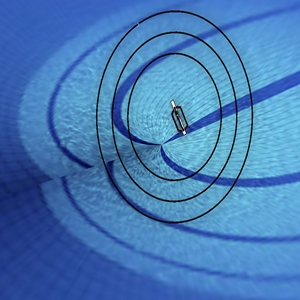circle: (82, 9, 265, 228)
submarine: (158, 93, 192, 142)
